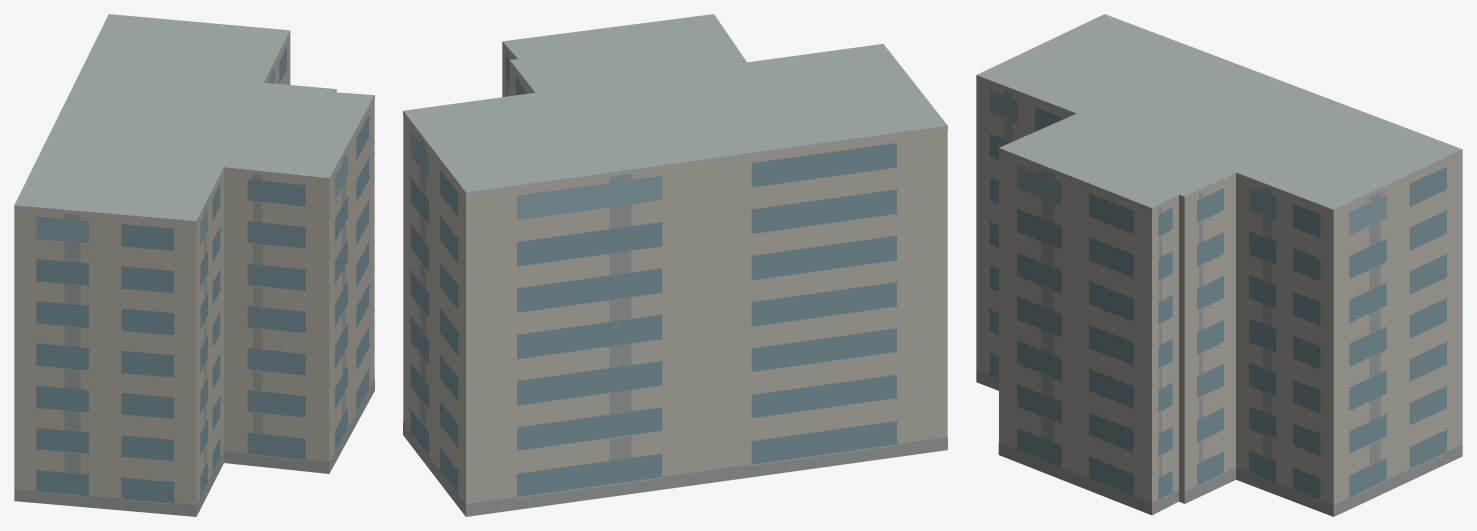
The model's file is survey-upis-32523853.glb.
3 renders of one model, left to right at view 1: azimuth 30°, elevation 25°; view 2: azimuth 150°, elevation 25°; view 3: azimuth 270°, elevation 25°, orthographic. The views are drawn at different scales.
Parts seen in each view (by area): view 1: survey-upis-32523853.tmp; view 2: survey-upis-32523853.tmp; view 3: survey-upis-32523853.tmp.
Boxes of the visible parts, left/top/right/bottom form: survey-upis-32523853.tmp: left=14, top=14, right=374, bottom=516; survey-upis-32523853.tmp: left=403, top=14, right=947, bottom=516; survey-upis-32523853.tmp: left=976, top=14, right=1462, bottom=516.
Size of the model in its own units: 25.43 by 18.6 by 26.7.
